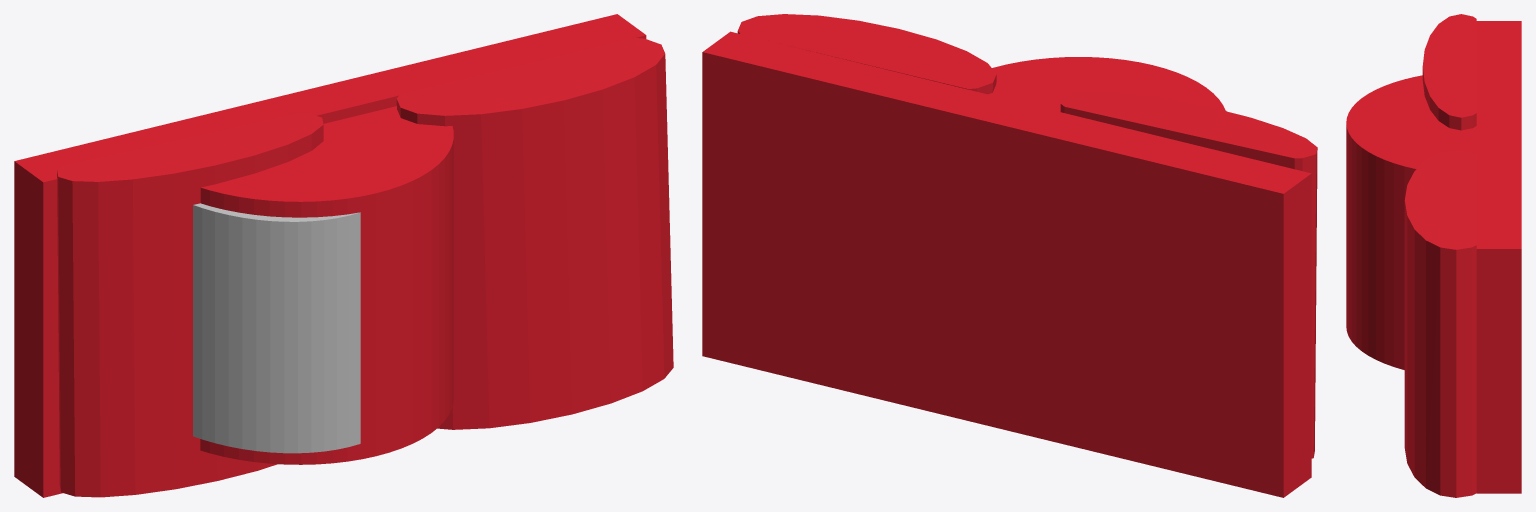
File: tinker.obj
The picture shows the model from 3 angles, left to right: view 1: azimuth 30°, elevation 25°; view 2: azimuth 150°, elevation 25°; view 3: azimuth 270°, elevation 25°; orthographic projection. The views are drawn at different scales.
Visible parts, largest first — view 1: group_0_15277357, group_0_2829873; view 2: group_0_15277357; view 3: group_0_15277357.
Boxes of the visible parts, x1,y1,x2,y2 form: group_0_15277357: (14, 14, 673, 497); group_0_2829873: (193, 203, 360, 453); group_0_15277357: (702, 14, 1317, 497); group_0_15277357: (1346, 14, 1521, 497).
Bounding box in the file's own units: 122 × 62.3 × 39.
